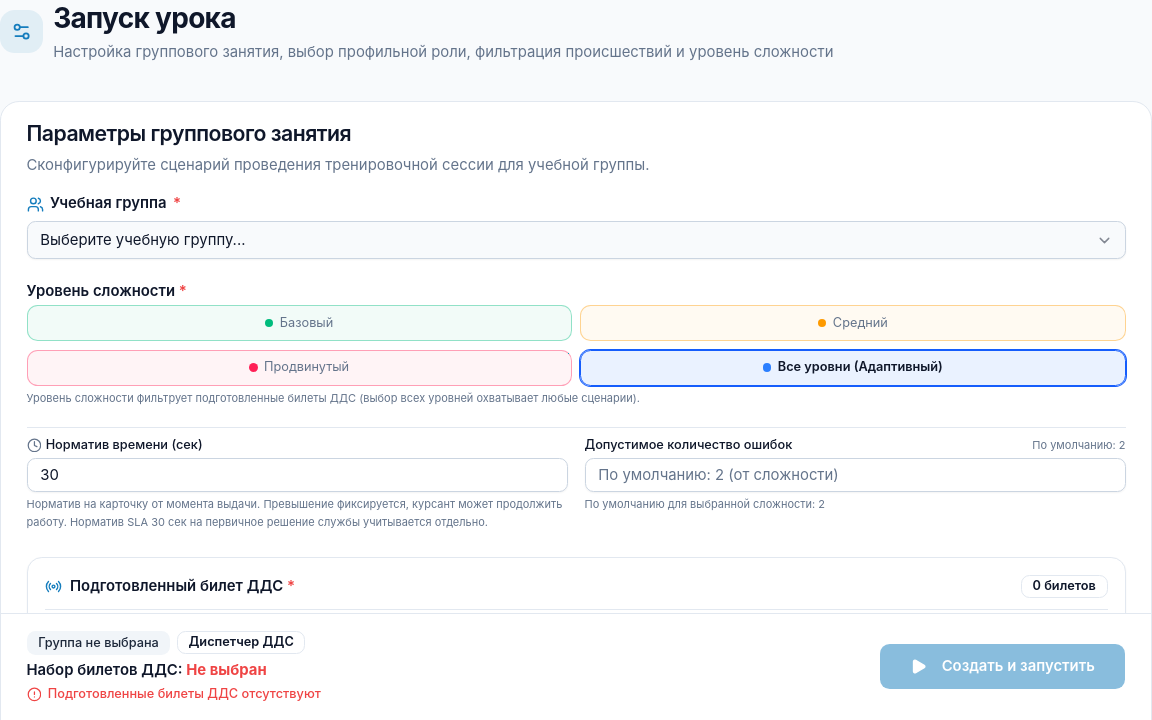
Test: keeps the ordered selection across category filters and blocks submit while loading
Later steps or results of the test are not shown.
Expected: the dropdown named "Фильтр категории ДДС" is shown, top-left (58, 667), bottom-right (570, 701)
Select "Моя группа (2 чел.)" in the dropdown with id "group_id" at (576, 240), box top-left (26, 221), bottom-right (1126, 259)
(page scrolled)
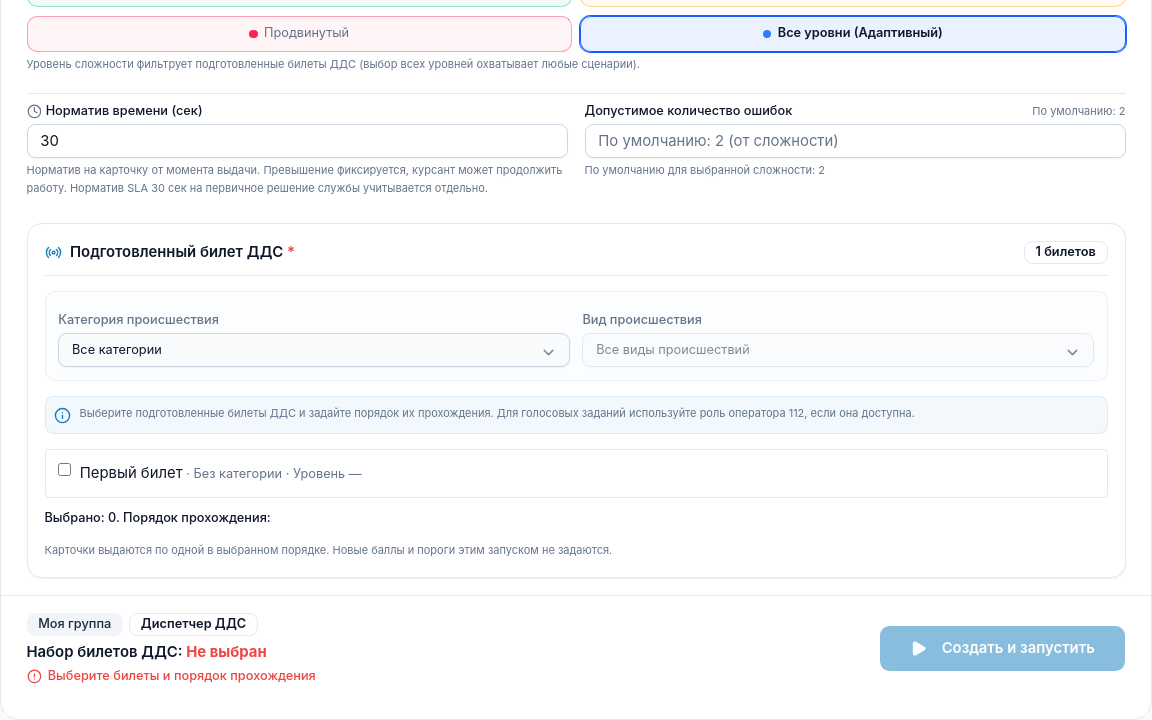
Click the checkbox labelled "Первый билет · Без категории · Уровень —".
click(65, 469)  # box top-left (58, 463), bottom-right (71, 476)
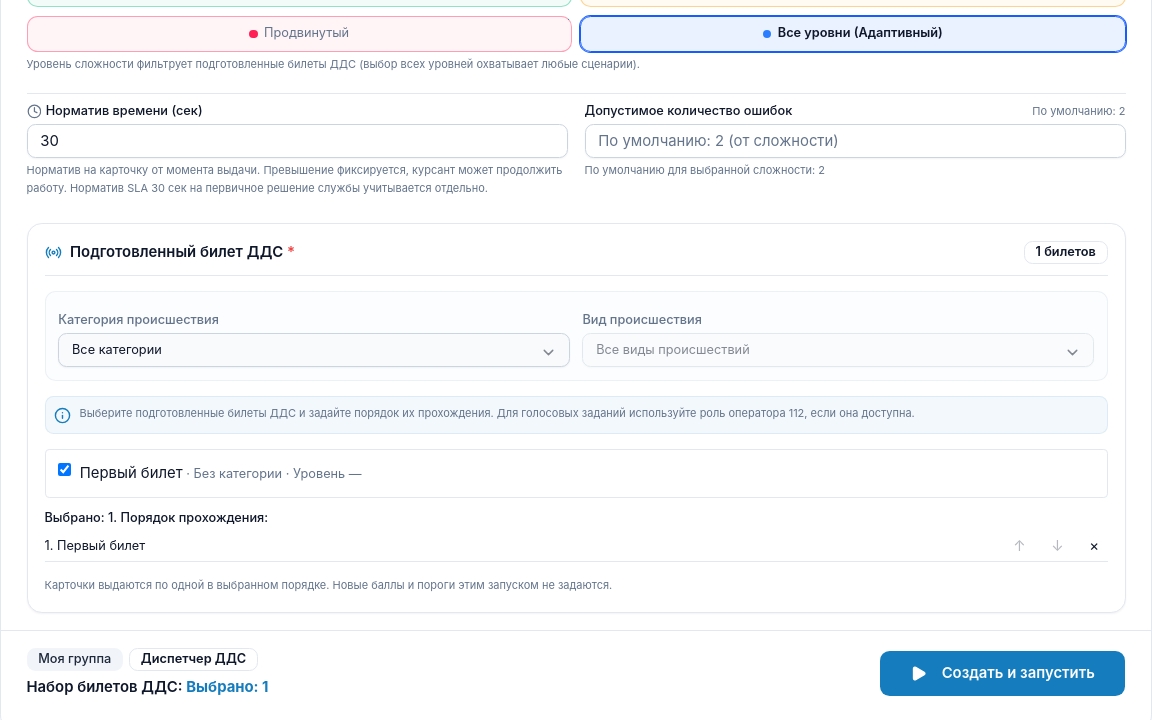
Expected: the button "Создать и запустить" is enabled, top-left (879, 650), bottom-right (1126, 697)
Select "ЖКХ (1)" in the dropdown named "Фильтр категории ДДС" at (314, 350), box top-left (58, 333), bottom-right (570, 367)
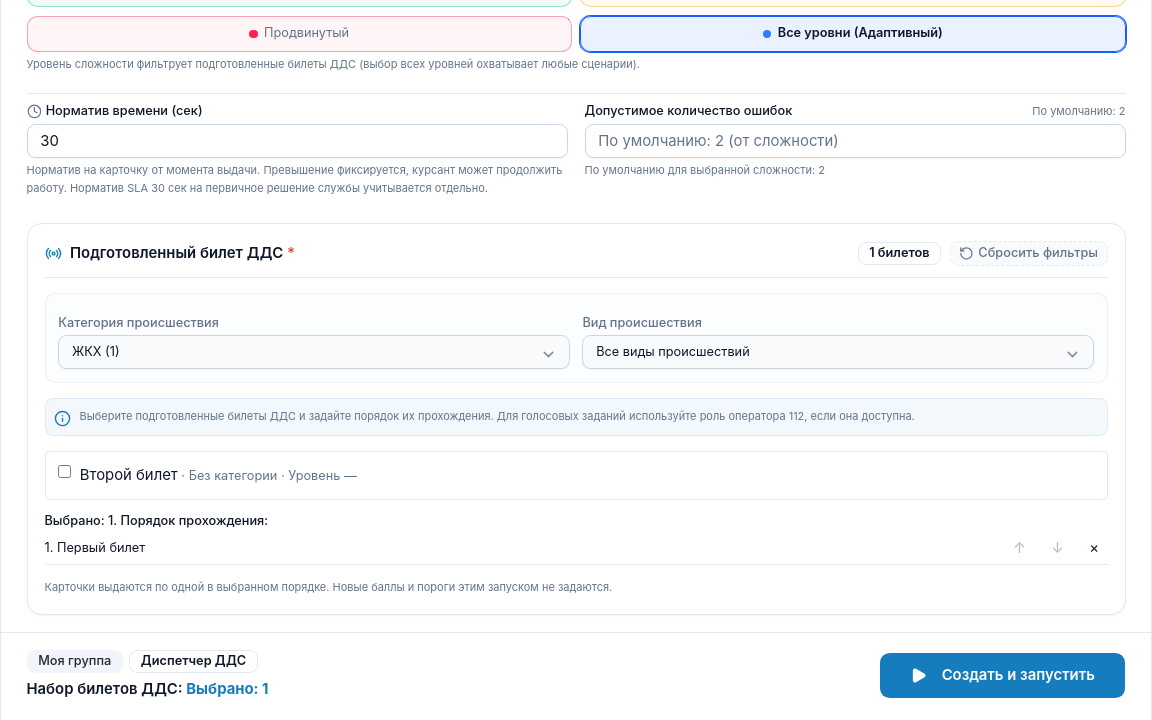
Expected: the checkbox labelled "Второй билет · Без категории · Уровень —" is shown
Expected: the button named "Убрать: Первый билет" is shown, top-left (1081, 538), bottom-right (1108, 559)
Click the checkbox labelled "Второй билет · Без категории · Уровень —".
click(65, 471)  # box top-left (58, 465), bottom-right (71, 478)
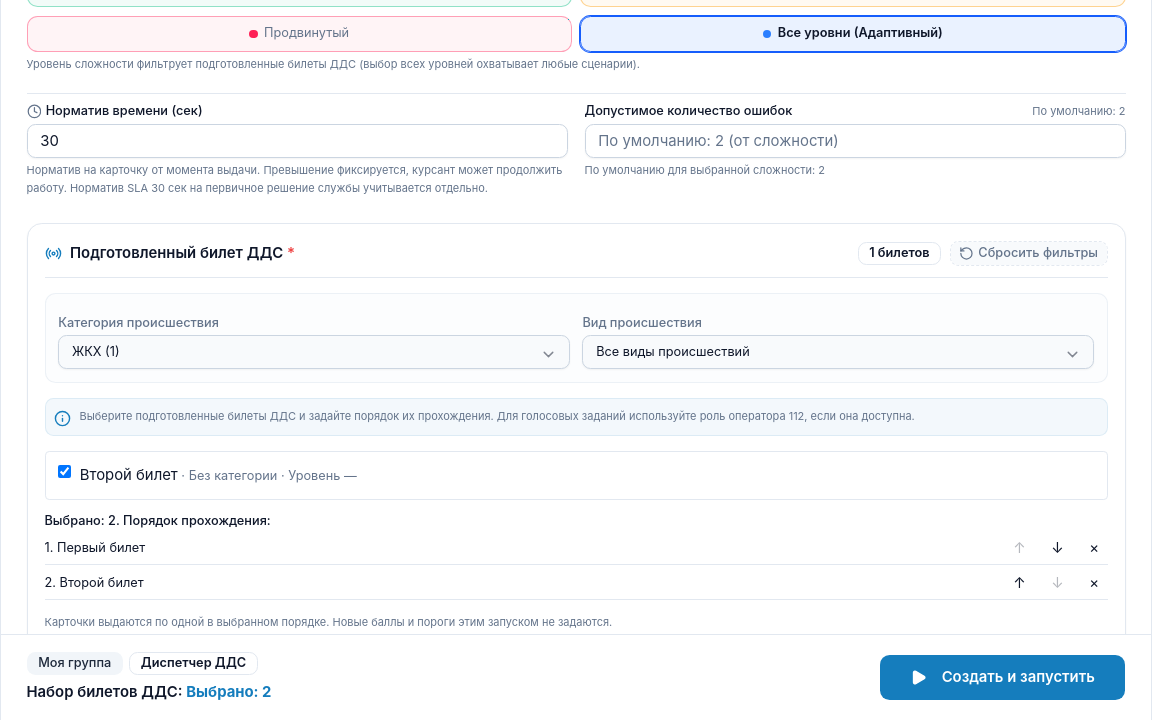
Expected: the button "Создать и запустить" is enabled, top-left (879, 654), bottom-right (1126, 701)
